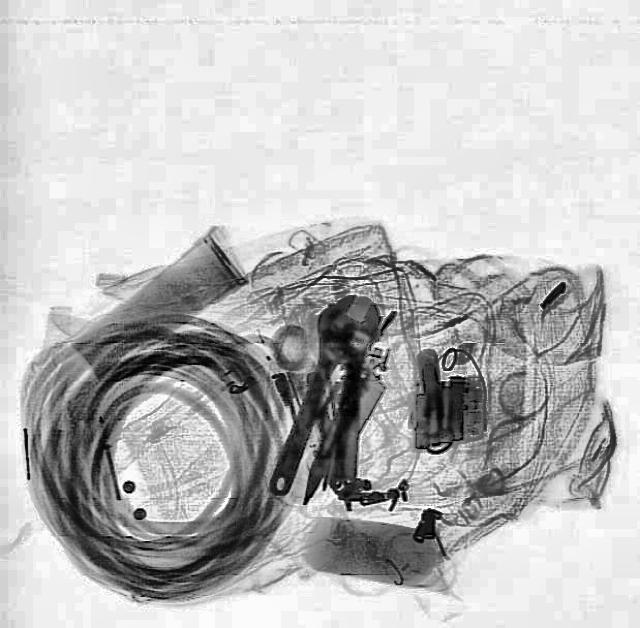Wrench: (250, 287, 376, 501), (314, 292, 380, 499)
